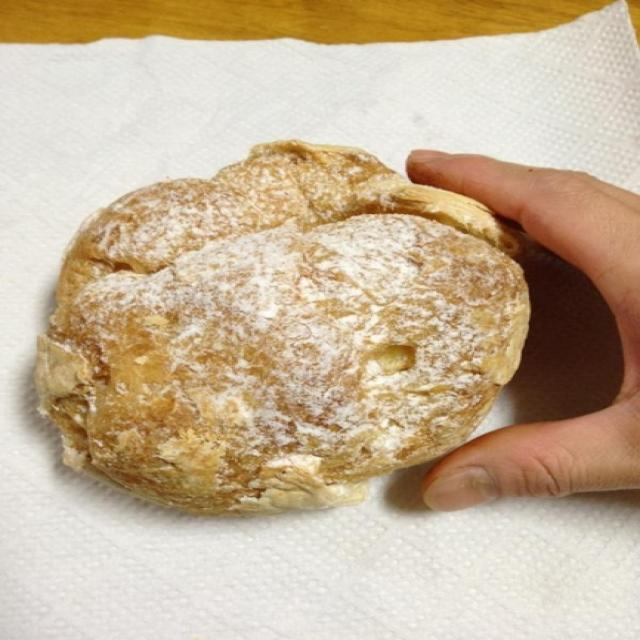炸货点心: (35, 98, 544, 570)
蛋糕甜品: (35, 98, 544, 570)
